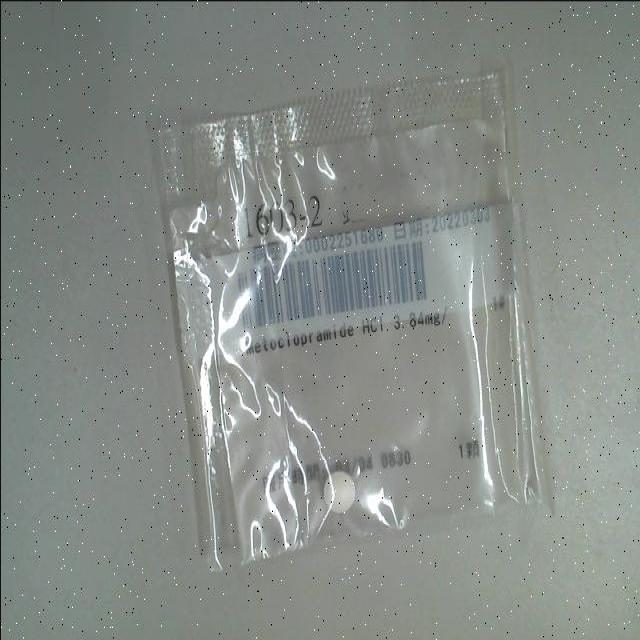pill: (320, 470, 359, 516)
